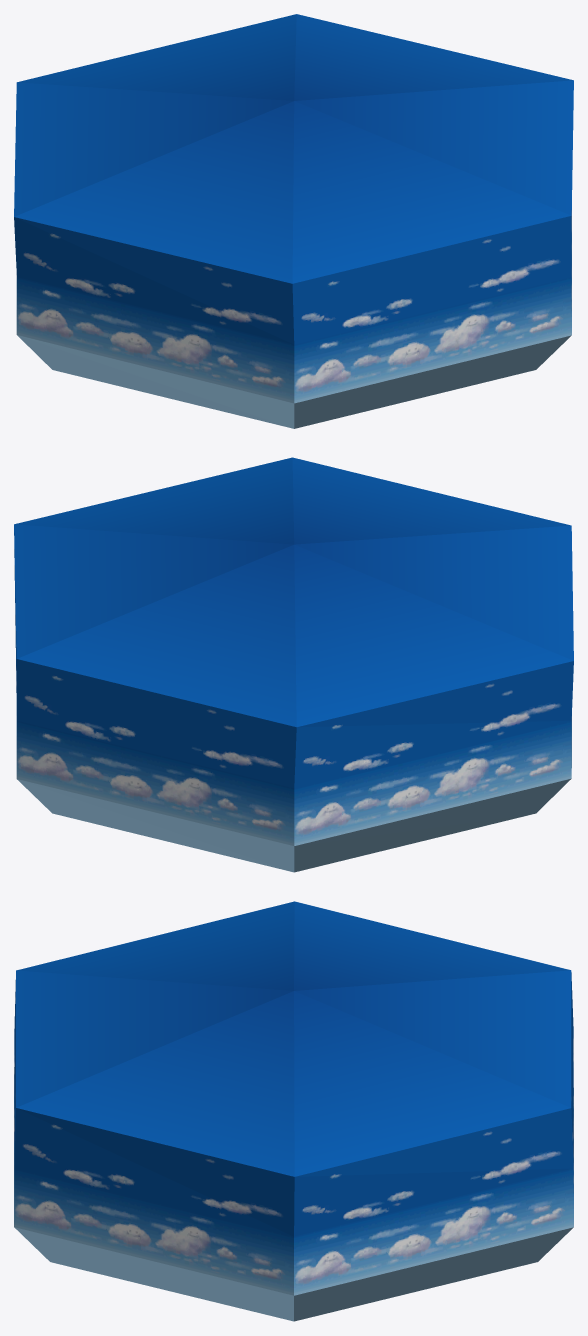
The model's file is old_luigi_gcD-old_luigi_gcD_V.glb.
The picture shows the model from 3 angles, top to bottom: view 1: azimuth 30°, elevation 25°; view 2: azimuth 150°, elevation 25°; view 3: azimuth 270°, elevation 25°; orthographic projection.
Visible parts, largest first — view 1: old_luigi_gcD_V; view 2: old_luigi_gcD_V; view 3: old_luigi_gcD_V.
Boxes of the visible parts, x1,y1,x2,y2 form: old_luigi_gcD_V: (14,14,573,428); old_luigi_gcD_V: (14,457,573,872); old_luigi_gcD_V: (14,901,573,1321).
Bounding box in the file's own units: 1392 × 498 × 1196.
Materials: 1 (1 with a texture image).
